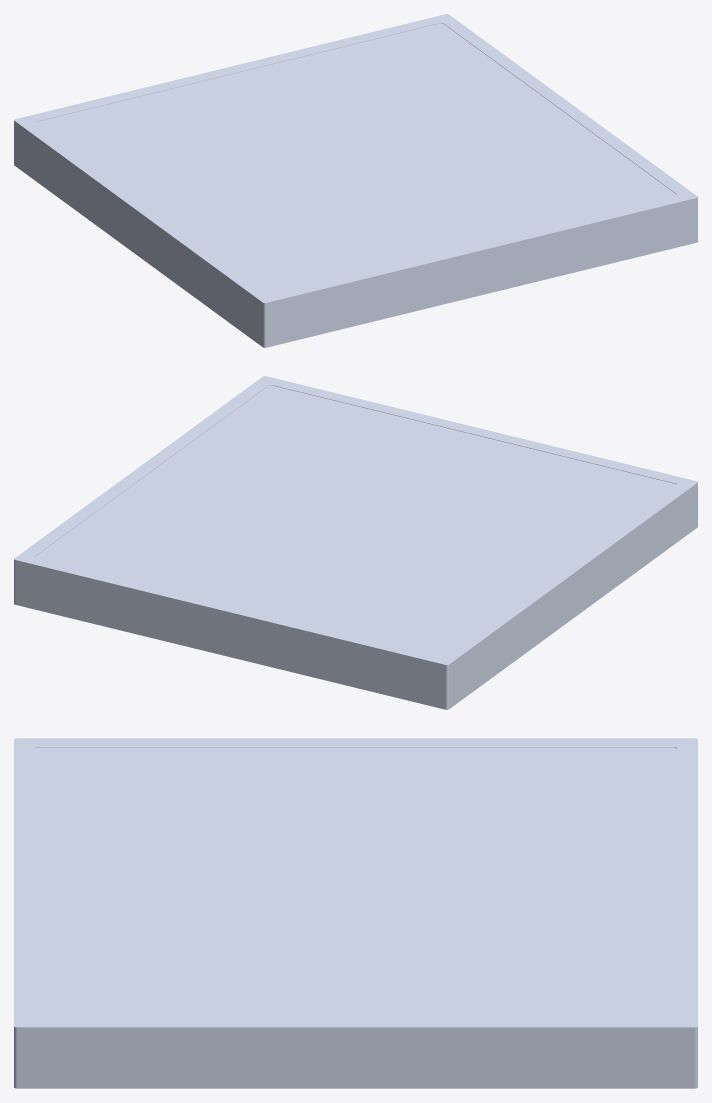
3 views of the same model, one above another, from view 1: azimuth 30°, elevation 25°; view 2: azimuth 150°, elevation 25°; view 3: azimuth 270°, elevation 25° (orthographic). The views are drawn at different scales.
Visible parts, largest first — view 1: Box01, Rectangle01; view 2: Box01, Rectangle01; view 3: Box01, Rectangle01.
Part boxes in pixels (x1=…): Box01: x1=35, y1=23, x2=676, y2=294; Rectangle01: x1=14, y1=14, x2=697, y2=347; Box01: x1=35, y1=385, x2=676, y2=656; Rectangle01: x1=14, y1=376, x2=697, y2=709; Box01: x1=35, y1=747, x2=676, y2=1018; Rectangle01: x1=14, y1=738, x2=697, y2=1088.
Size of the model in its own units: 406 by 40 by 406.
